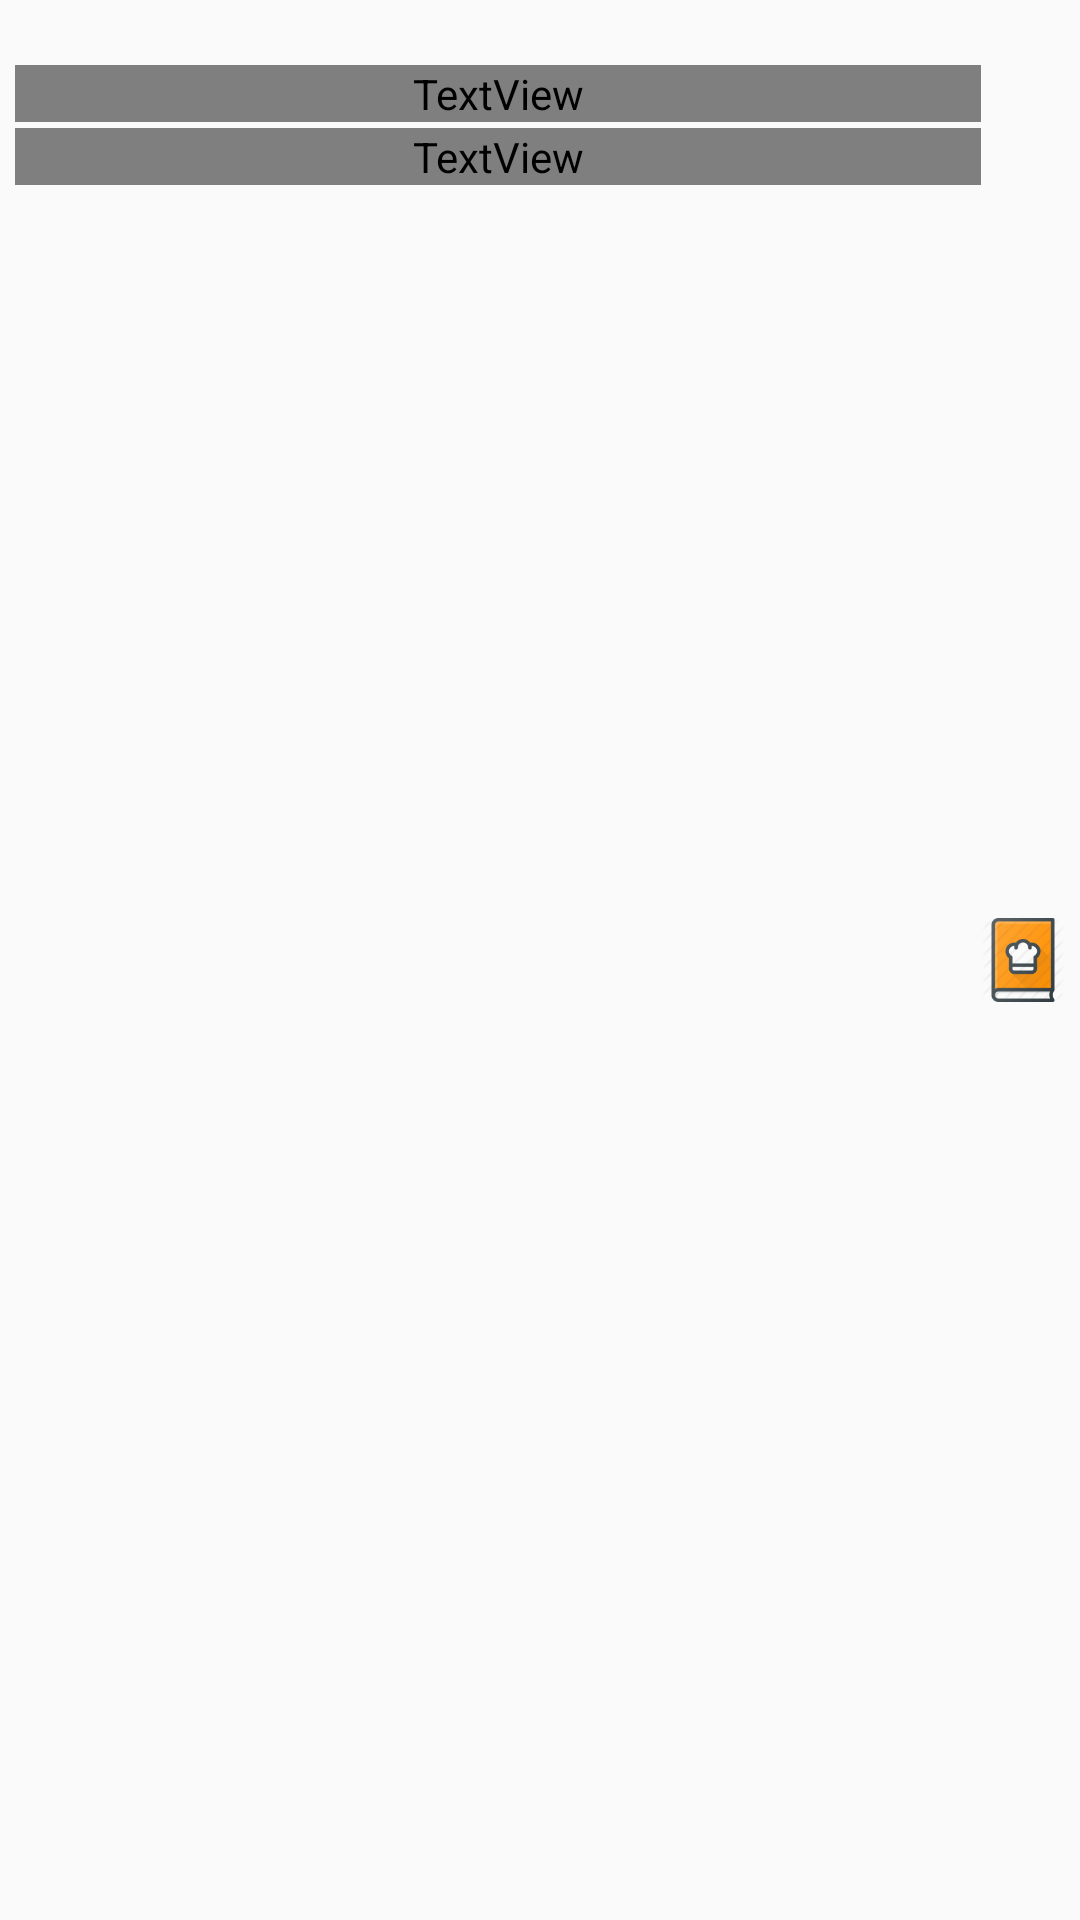

Icon bounding boxes for this 1080x1920 phone screenshot, format (x1, y1, x2, y2):
cookbook: (991, 918, 1055, 1002)
